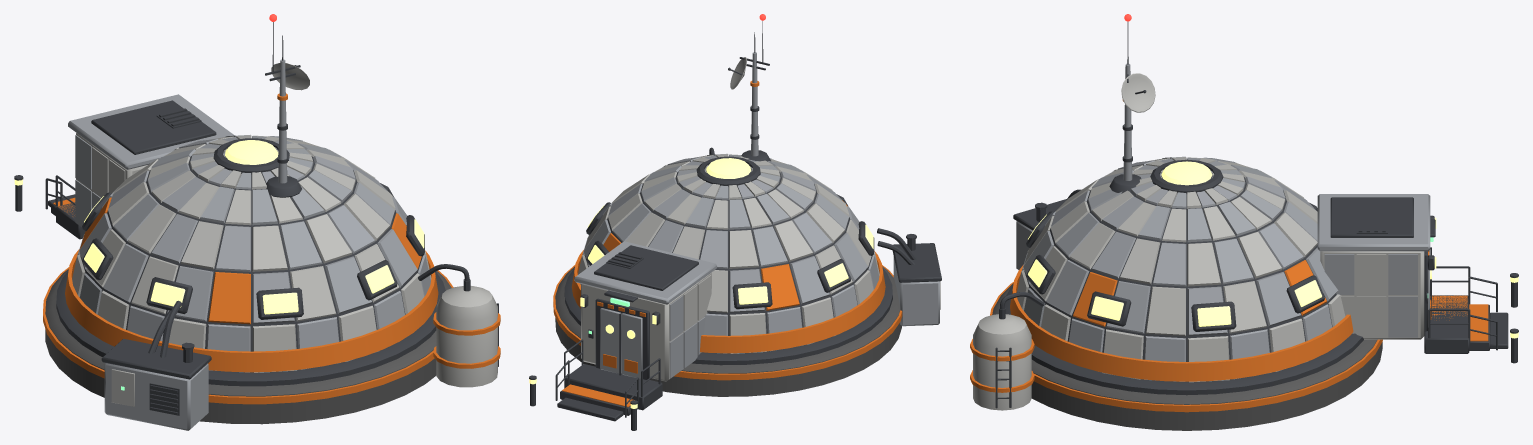
Rendered from outpost_hab_a.glb.
3 views of the same model, side by side, from view 1: azimuth 30°, elevation 25°; view 2: azimuth 150°, elevation 25°; view 3: azimuth 270°, elevation 25° (orthographic). The views are drawn at different scales.
Visible parts, largest first — view 1: Hab; view 2: Hab; view 3: Hab.
Boxes of the visible parts, x1,y1,x2,y2 form: Hab: (14, 22, 500, 430); Hab: (529, 21, 941, 430); Hab: (970, 22, 1518, 430).
Size of the model in its own units: 12.08 by 10.49 by 15.83.
